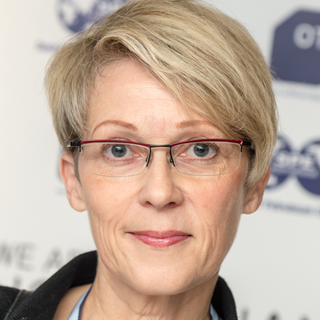eye: (175, 138, 222, 168), (96, 139, 138, 165)
